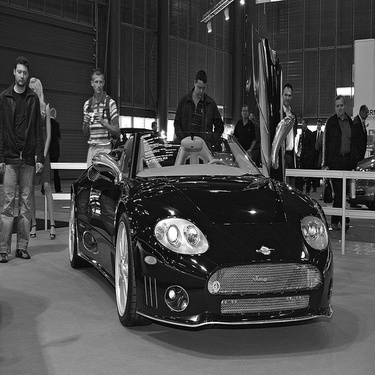car: (55, 31, 340, 333), (107, 123, 168, 176), (352, 153, 374, 212)
